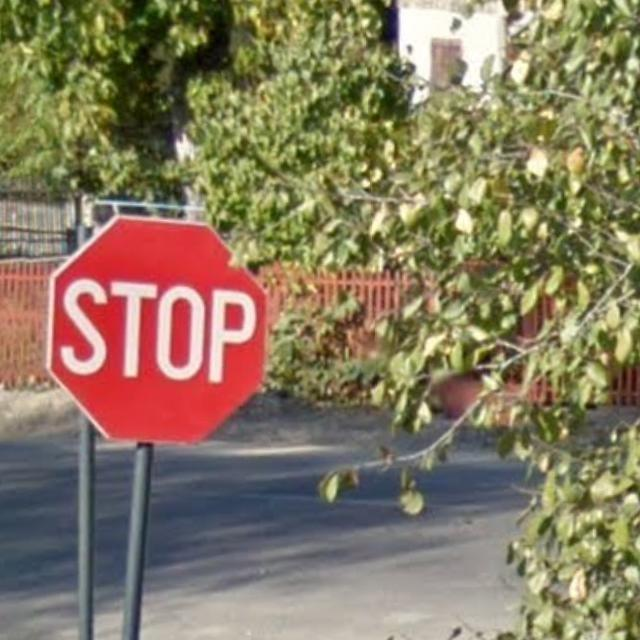prio_stop: (48, 216, 264, 446)
